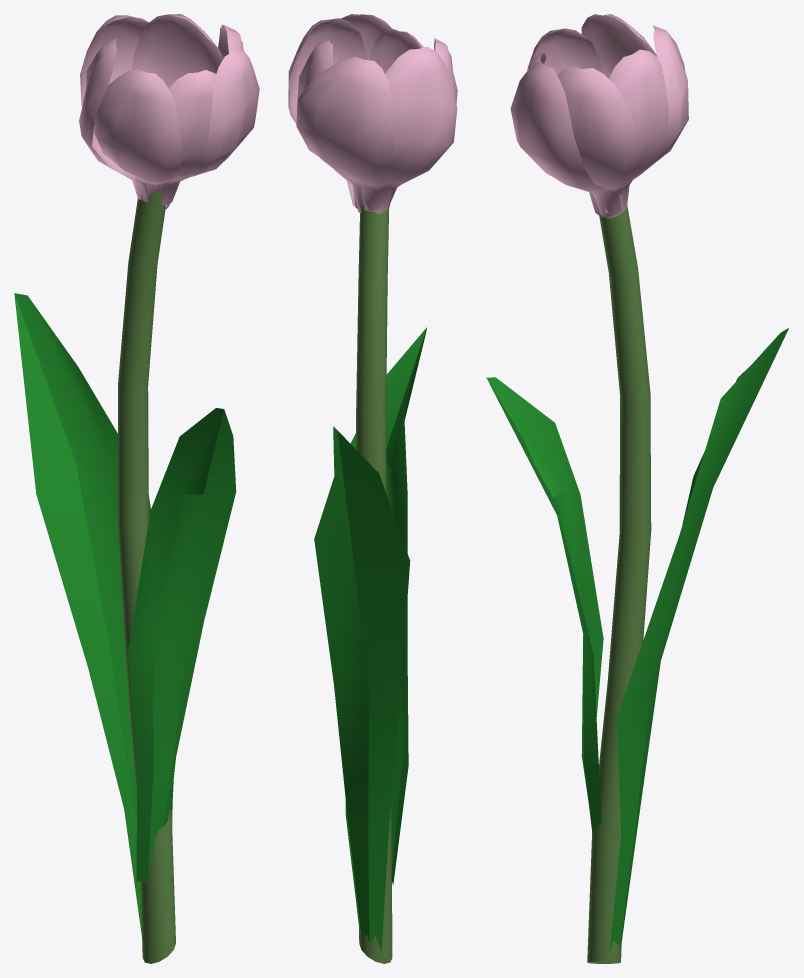
File: tulip.gltf
The picture shows the model from 3 angles, left to right: view 1: azimuth 30°, elevation 25°; view 2: azimuth 150°, elevation 25°; view 3: azimuth 270°, elevation 25°; orthographic projection.
Parts seen in each view (by area): view 1: Plane, Plane.001, Circle, Plane.004, Plane.008, Plane.007, Plane.002, Plane.005, Plane.006, Plane.003; view 2: Plane, Plane.006, Circle, Plane.005, Plane.001, Plane.003, Plane.007, Plane.002, Plane.008, Plane.004; view 3: Circle, Plane, Plane.001, Plane.003, Plane.008, Plane.007, Plane.006, Plane.005, Plane.004.
Part boxes in pixels (<box>): Plane: <box>14,293,173,935</box>; Plane.001: <box>128,408,236,881</box>; Circle: <box>117,181,175,963</box>; Plane.004: <box>94,69,182,196</box>; Plane.008: <box>160,46,259,205</box>; Plane.007: <box>131,14,223,195</box>; Plane.002: <box>141,70,215,200</box>; Plane.005: <box>79,37,148,203</box>; Plane.006: <box>80,15,148,197</box>; Plane.003: <box>165,24,244,209</box>; Plane: <box>314,426,410,951</box>; Plane.006: <box>296,56,394,212</box>; Circle: <box>356,205,392,963</box>; Plane.005: <box>364,46,457,213</box>; Plane.001: <box>350,327,426,885</box>; Plane.003: <box>288,18,367,212</box>; Plane.007: <box>296,38,362,209</box>; Plane.002: <box>369,28,423,206</box>; Plane.008: <box>341,14,391,205</box>; Plane.004: <box>382,38,457,208</box>; Circle: <box>587,206,651,963</box>; Plane: <box>609,328,788,953</box>; Plane.001: <box>486,377,603,831</box>; Plane.003: <box>557,67,641,218</box>; Plane.008: <box>510,62,621,216</box>; Plane.007: <box>604,49,668,213</box>; Plane.006: <box>644,25,688,168</box>; Plane.005: <box>581,14,656,78</box>; Plane.004: <box>527,28,603,74</box>.
Bounding box in the file's own units: 110 × 611 × 179.
